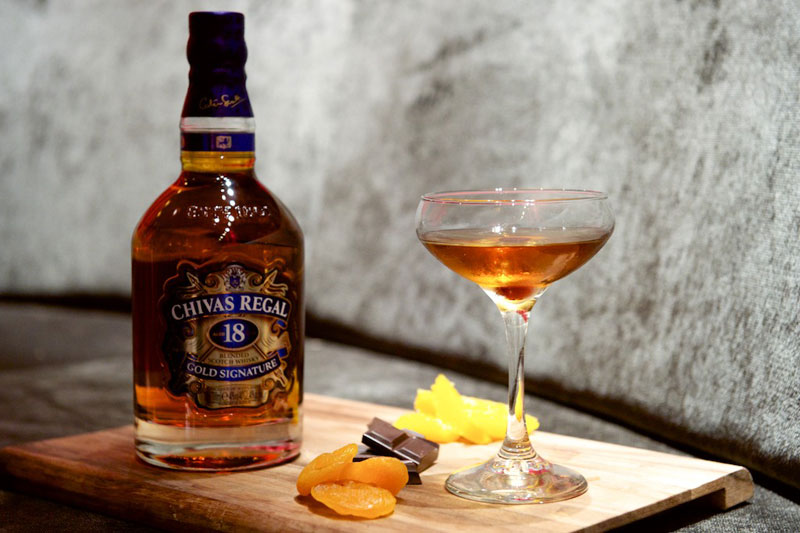Chivas Regal: (126, 8, 311, 475)
